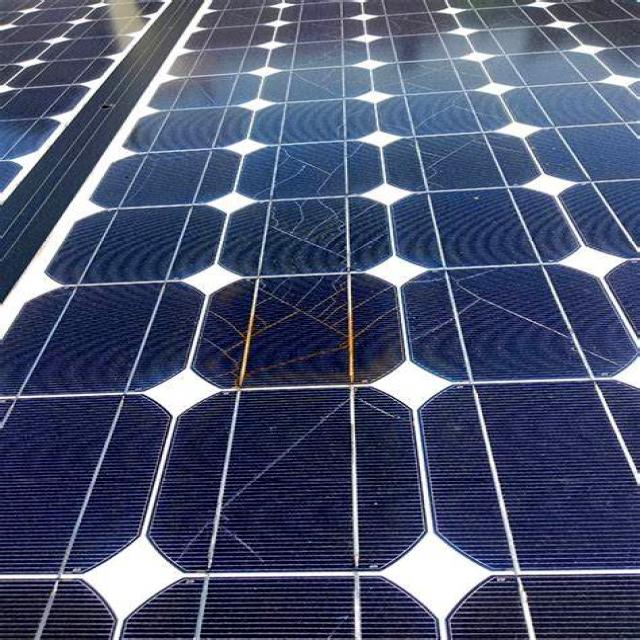shadow: (201, 238, 396, 412)
